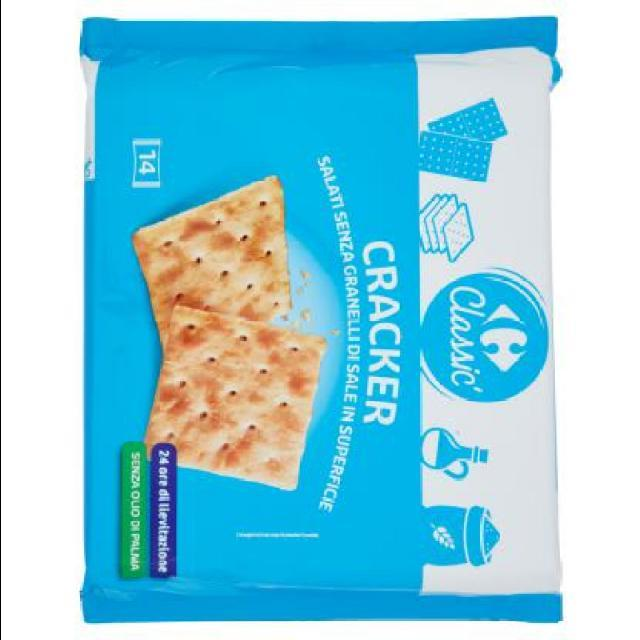Cracker: (64, 13, 568, 630)
